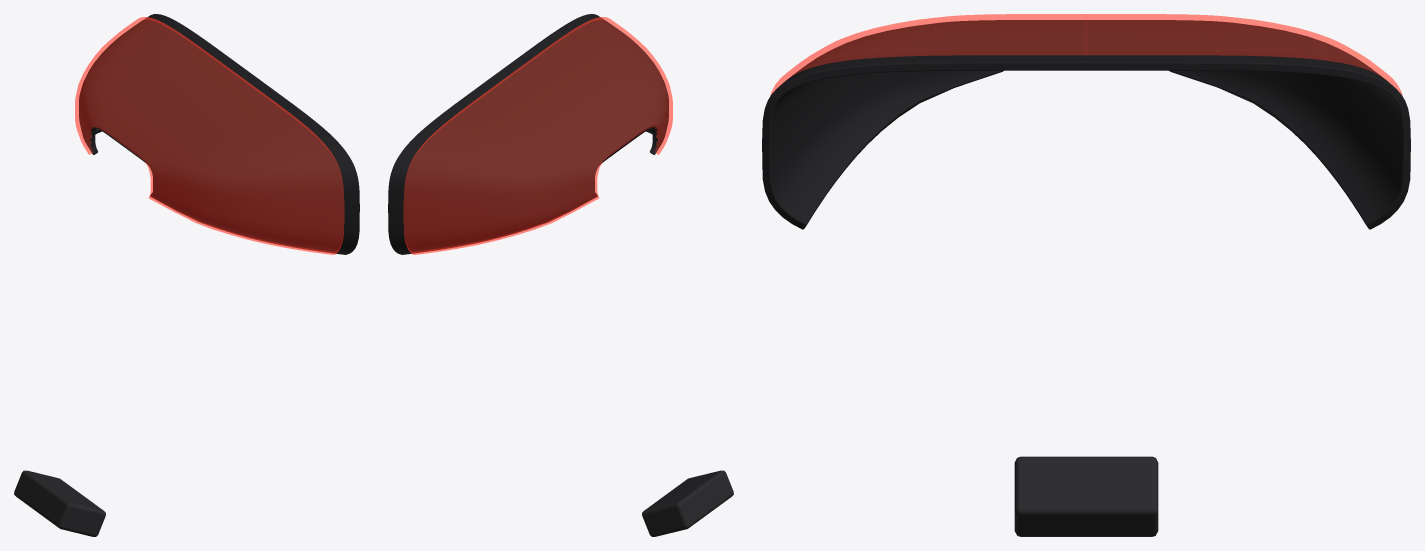
File: bike_scooter__tail_light.glb
The picture shows the model from 3 angles, left to right: view 1: azimuth 30°, elevation 25°; view 2: azimuth 150°, elevation 25°; view 3: azimuth 270°, elevation 25°; orthographic projection. The views are drawn at different scales.
Parts seen in each view (by area): view 1: electrical__tail_light__housing, electrical__tail_light, electrical__number_plate_light; view 2: electrical__tail_light__housing, electrical__tail_light, electrical__number_plate_light; view 3: electrical__tail_light__housing, electrical__tail_light, electrical__number_plate_light.
Part boxes in pixels (box(x1,y1,x2,y2)): electrical__tail_light__housing: box(79, 14, 359, 254); electrical__tail_light: box(75, 17, 344, 254); electrical__number_plate_light: box(14, 470, 105, 536); electrical__tail_light__housing: box(388, 14, 668, 254); electrical__tail_light: box(403, 17, 672, 254); electrical__number_plate_light: box(642, 470, 733, 536); electrical__tail_light__housing: box(762, 20, 1410, 229); electrical__tail_light: box(770, 14, 1402, 95); electrical__number_plate_light: box(1014, 456, 1158, 536).
Bounding box in the file's own units: 12.06 × 21.48 × 20.76.
